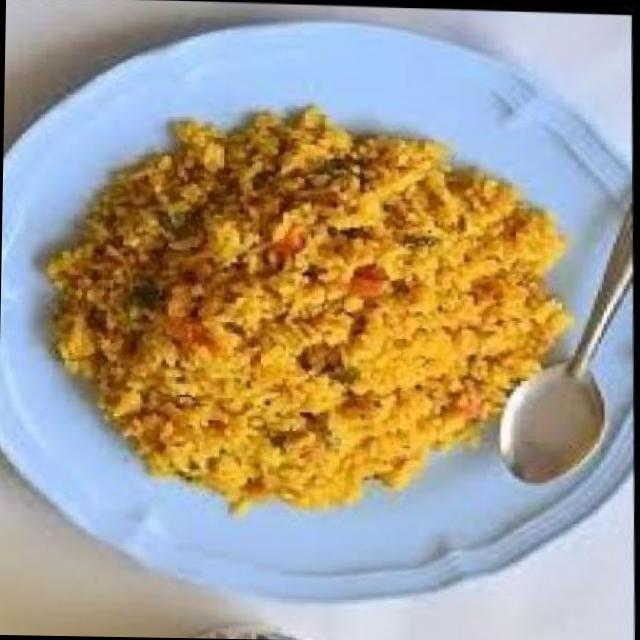poha: (32, 96, 585, 526)
